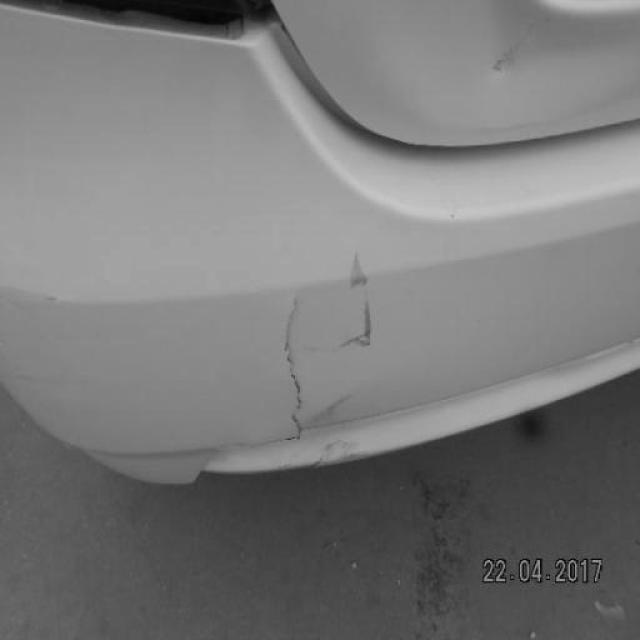scratch: (301, 388, 371, 468), (280, 288, 315, 436), (344, 250, 378, 357), (488, 21, 538, 79)
